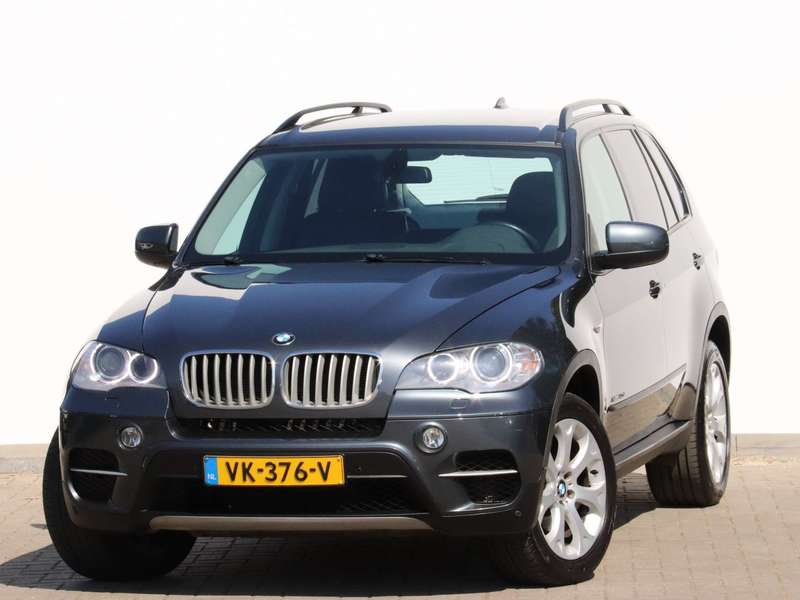kenteken: (203, 453, 346, 486)
